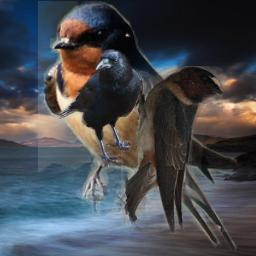Crow: (51, 44, 144, 170)
Swallow: (38, 1, 237, 253), (121, 66, 223, 233)
